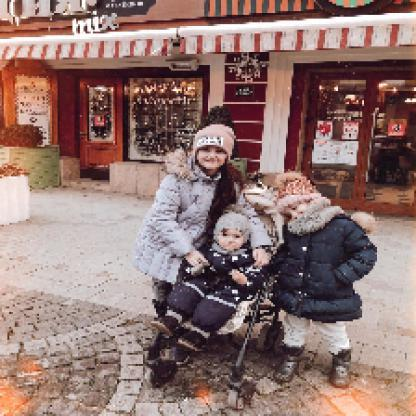child: (270, 171, 382, 392), (150, 204, 265, 355)
